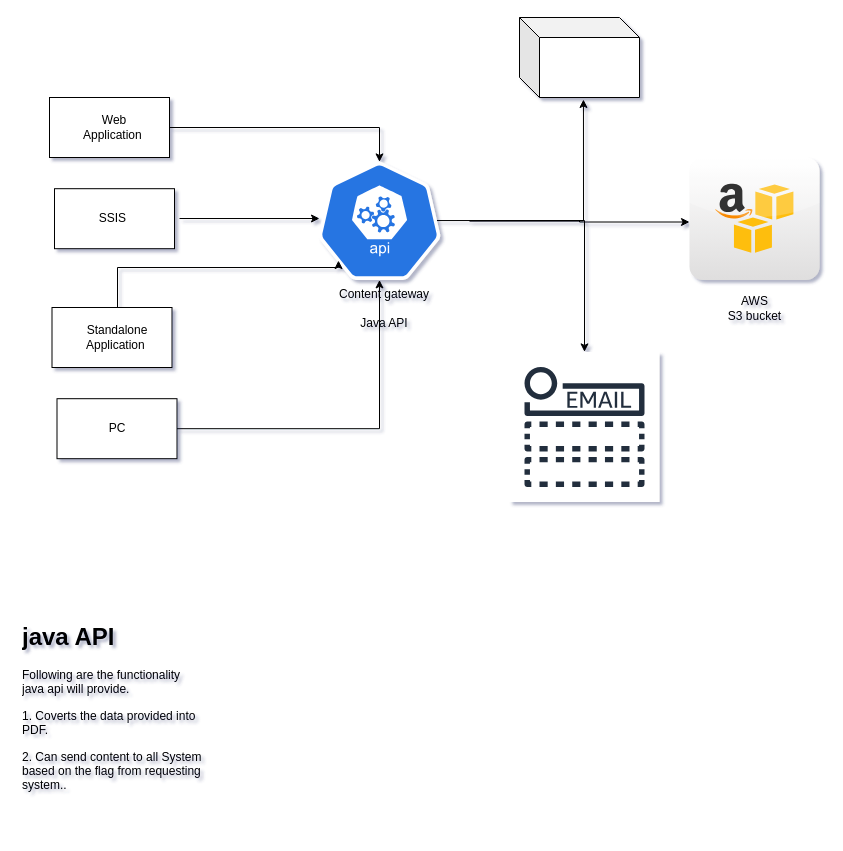
The diagram is 843 pixels wide and 851 high, and some of its shapes have lost their labels. Each missing label, with the centre of its shape:
"ECM" goes at [579,57].
"Email notification" goes at [584,426].
